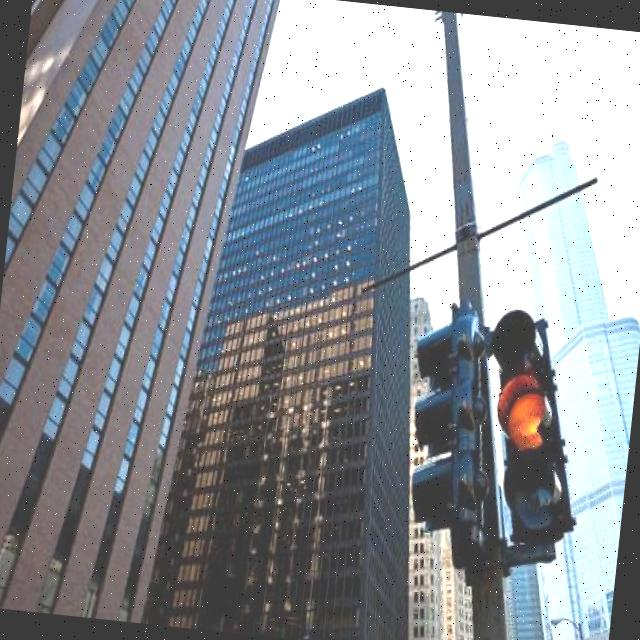yellow_light: (469, 308, 604, 539)
